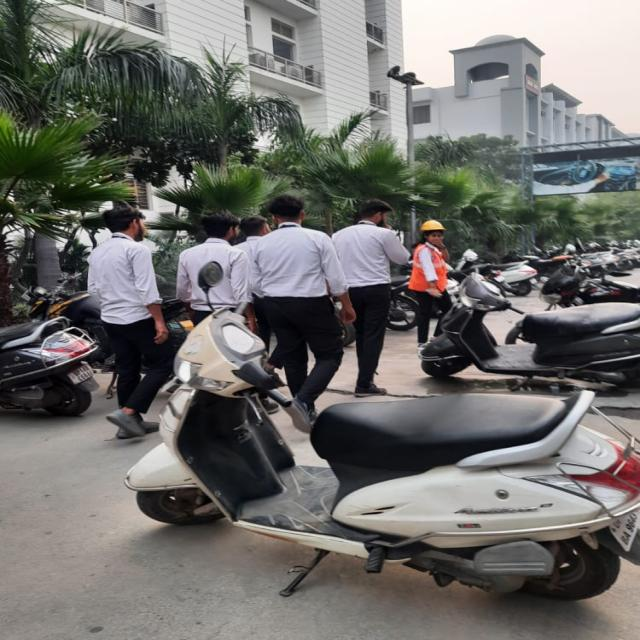safe: (408, 220, 451, 349)
unsafe: (250, 194, 351, 432), (89, 206, 174, 438), (332, 199, 407, 396), (177, 213, 251, 343)
